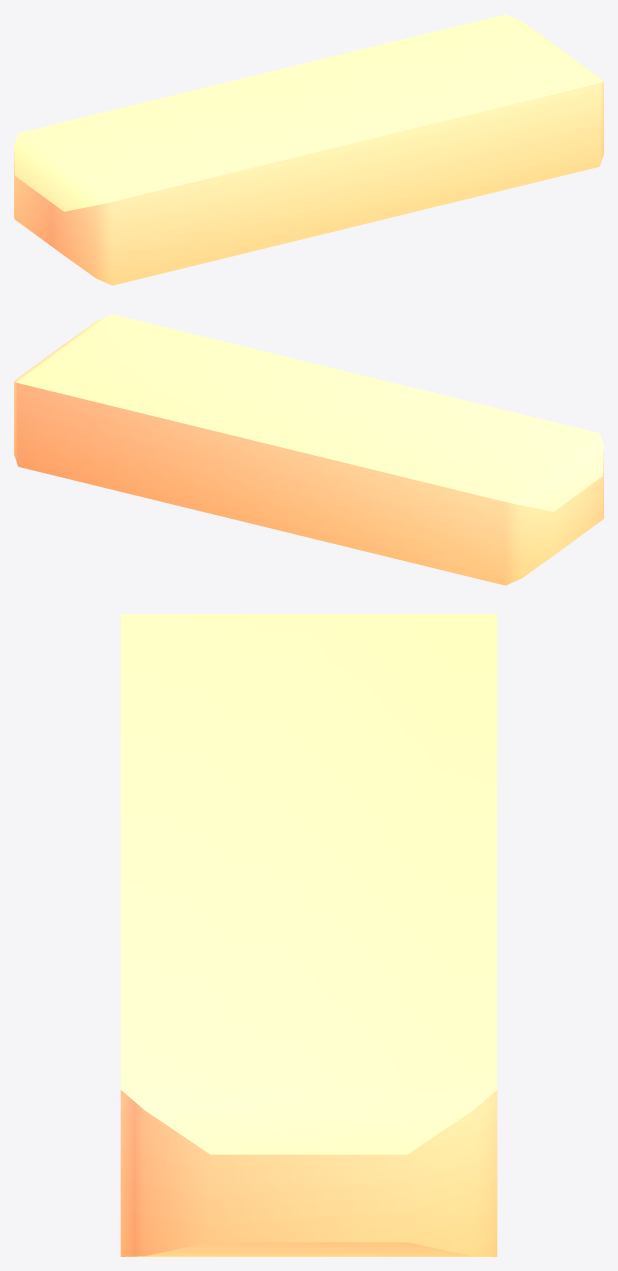
File: wood_guard_081_004.glb
3 views of the same model, one above another, from view 1: azimuth 30°, elevation 25°; view 2: azimuth 150°, elevation 25°; view 3: azimuth 270°, elevation 25° (orthographic). The views are drawn at different scales.
Parts seen in each view (by area): view 1: wood_guard_081.004; view 2: wood_guard_081.004; view 3: wood_guard_081.004.
Part boxes in pixels (box(x1,y1,x2,y2)): wood_guard_081.004: box(14, 14, 603, 285); wood_guard_081.004: box(14, 314, 603, 585); wood_guard_081.004: box(120, 614, 497, 1256).
Size of the model in its own units: 6.61 by 0.9809 by 2.
Materials: 1 (1 with a texture image).
